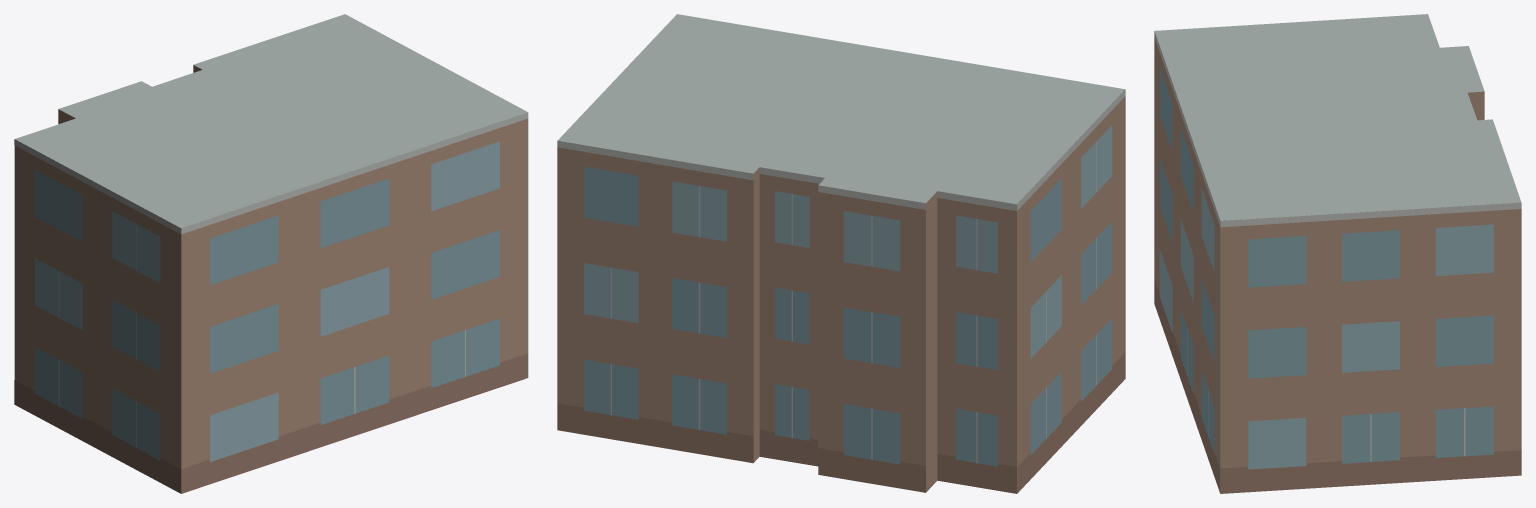
File: survey-upis-32915000.glb
3 views of the same model, side by side, from view 1: azimuth 30°, elevation 25°; view 2: azimuth 150°, elevation 25°; view 3: azimuth 270°, elevation 25° (orthographic). The views are drawn at different scales.
Parts seen in each view (by area): view 1: survey-upis-32915000.tmp; view 2: survey-upis-32915000.tmp; view 3: survey-upis-32915000.tmp.
Boxes of the visible parts, x1=… form: survey-upis-32915000.tmp: x1=14, y1=14, x2=528, y2=493; survey-upis-32915000.tmp: x1=557, y1=14, x2=1125, y2=493; survey-upis-32915000.tmp: x1=1154, y1=14, x2=1521, y2=493.
Bounding box in the file's own units: 17.17 × 10.55 × 12.87.
